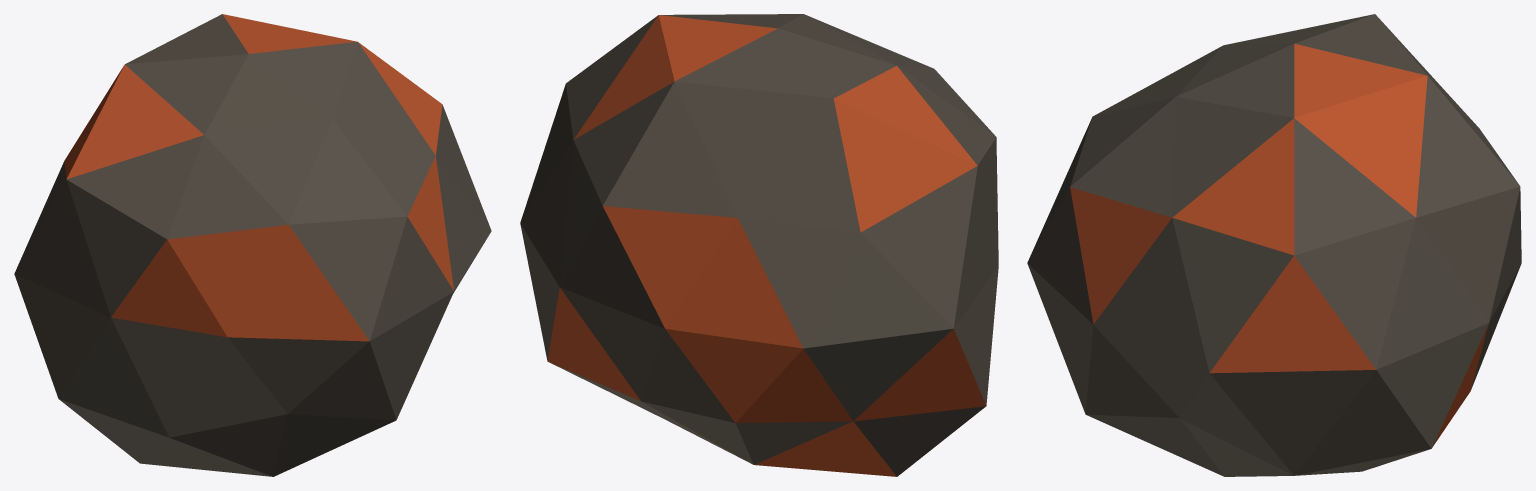
The model's file is hazard_meteor.glb.
3 renders of one model, left to right at view 1: azimuth 30°, elevation 25°; view 2: azimuth 150°, elevation 25°; view 3: azimuth 270°, elevation 25°, orthographic. The views are drawn at different scales.
Parts seen in each view (by area): view 1: meteor_rock; view 2: meteor_rock; view 3: meteor_rock.
Part boxes in pixels (x1,y1,x2,y2): meteor_rock: (14, 14, 491, 476); meteor_rock: (520, 14, 998, 476); meteor_rock: (1027, 14, 1521, 476).
Size of the model in its own units: 0.7446 by 0.6779 by 0.7186.
